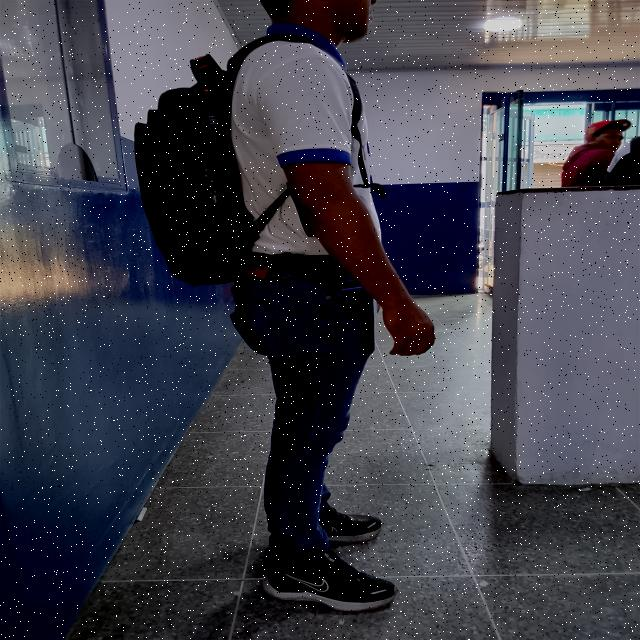uniforme_superior: (230, 22, 385, 256)
